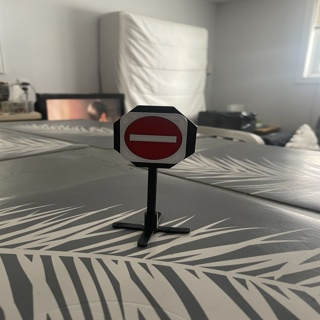sign_noentry: (120, 110, 180, 160)
